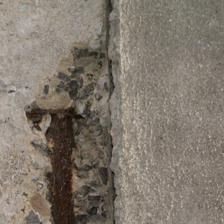Crack: (49, 2, 80, 221)
